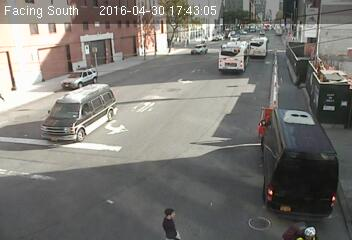neg: (134, 68, 165, 110), (323, 112, 344, 140), (266, 88, 285, 112), (102, 84, 120, 109), (48, 63, 64, 84), (282, 140, 297, 160), (75, 36, 90, 56), (299, 39, 312, 57), (212, 60, 225, 77), (233, 76, 246, 93), (88, 117, 101, 133), (193, 75, 205, 92), (174, 34, 186, 50), (246, 49, 257, 63), (272, 44, 282, 58), (138, 31, 146, 42)
pos: (158, 205, 180, 235), (305, 224, 315, 237)
